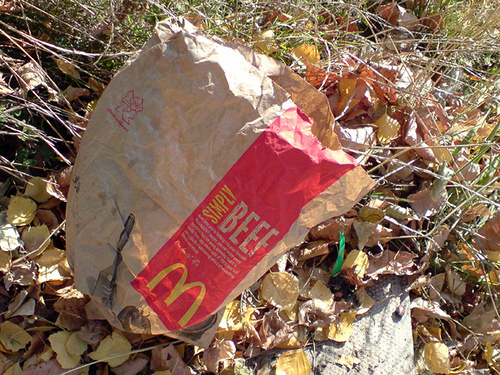litter: (65, 17, 376, 344)
